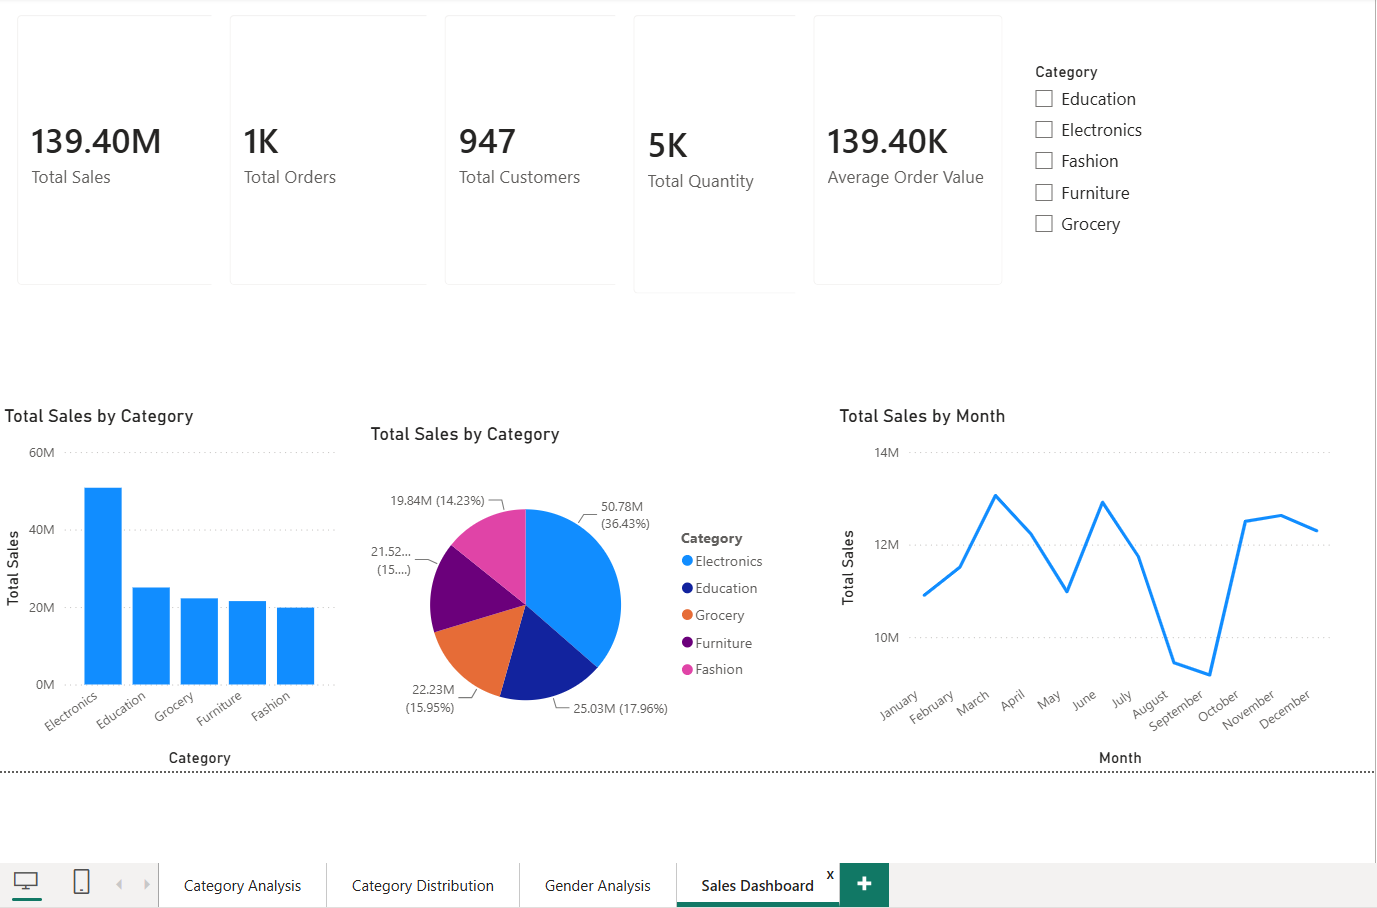

The dashboard page shown, as its layout file describes it:
{"tool":"powerbi","page":{"name":"Sales Dashboard","canvas":[1280,720],"ordinal":3},"visuals":[{"type":"cardVisual","fields":{"Data":["Sales_Dataset.Total Sales"]},"box":[0,0,245,285],"z":0},{"type":"cardVisual","fields":{"Data":["Sales_Dataset.Total Orders"]},"box":[197.5,0,225,285],"z":1000},{"type":"cardVisual","fields":{"Data":["Sales_Dataset.Total Customers"]},"box":[397.5,0,242.5,285],"z":2000},{"type":"cardVisual","fields":{"Data":["Sales_Dataset.Total Quantity"]},"box":[573.8,0,238.8,293.8],"z":3000},{"type":"cardVisual","fields":{"Data":["Sales_Dataset.Average Order Value"]},"box":[741.2,0,210,285],"z":3001},{"type":"clusteredColumnChart","fields":{"Category":["Sales_Dataset.Category"],"Y":["Sales_Dataset.Total Sales"]},"box":[0,378.8,317.5,341.2],"z":3002},{"type":"pieChart","fields":{"Category":["Sales_Dataset.Category"],"Y":["Sales_Dataset.Total Sales"]},"box":[341.2,396.2,383.8,307.5],"z":3003},{"type":"lineChart","fields":{"Category":["Sales_Dataset.Order_Date.Variation.Date Hierarchy.Month"],"Y":["Sales_Dataset.Total Sales"]},"box":[776.2,378.8,467.5,341.2],"z":3004},{"type":"slicer","fields":{"Values":["Sales_Dataset.Category"]},"box":[951.2,56.2,328.8,228.8],"z":3005}]}

Visuals, with their boxes on the page's 1280x720 design canvas (x1, y1, x2, y2). These are canvas units, not pixel positions in the 1377x908 screenshot, which may show the page scaled, cropped or inside an application window:
cardVisual - Sales_Dataset.Total Sales: (left=0, top=0, right=245, bottom=285)
cardVisual - Sales_Dataset.Total Orders: (left=198, top=0, right=422, bottom=285)
cardVisual - Sales_Dataset.Total Customers: (left=398, top=0, right=640, bottom=285)
cardVisual - Sales_Dataset.Total Quantity: (left=574, top=0, right=813, bottom=294)
cardVisual - Sales_Dataset.Average Order Value: (left=741, top=0, right=951, bottom=285)
clusteredColumnChart - Sales_Dataset.Category x Sales_Dataset.Total Sales: (left=0, top=379, right=318, bottom=720)
pieChart - Sales_Dataset.Category x Sales_Dataset.Total Sales: (left=341, top=396, right=725, bottom=704)
lineChart - Sales_Dataset.Order_Date.Variation.Date Hierarchy.Month x Sales_Dataset.Total Sales: (left=776, top=379, right=1244, bottom=720)
slicer - Sales_Dataset.Category: (left=951, top=56, right=1280, bottom=285)
